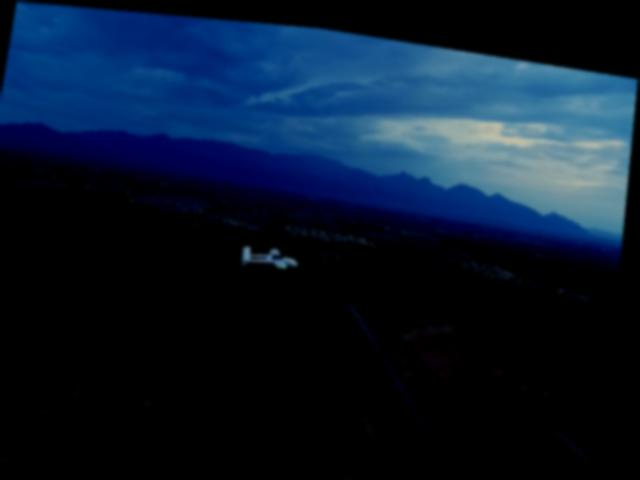plane: (243, 237, 304, 273)
